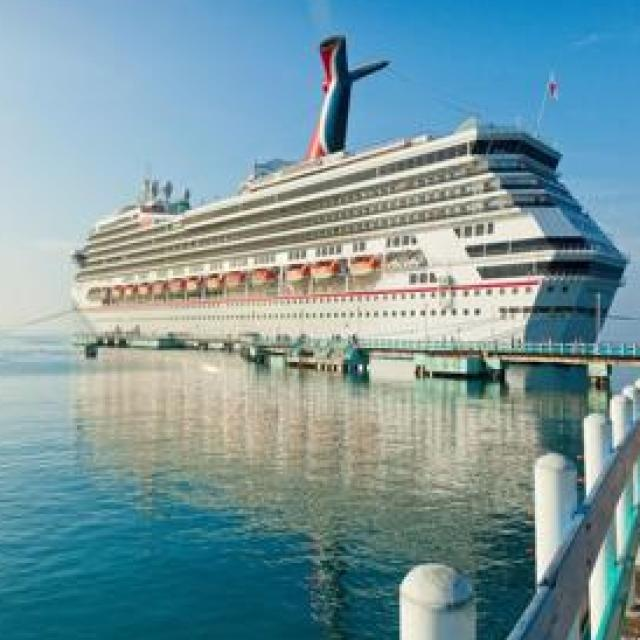passenger ship: (61, 65, 605, 354)
